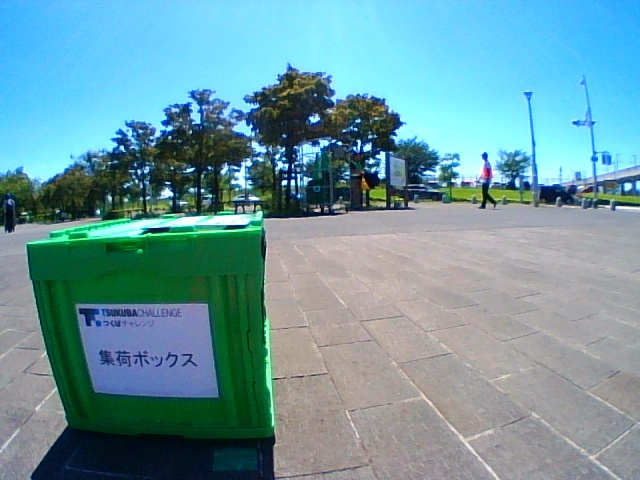green_box: (27, 209, 273, 435)
